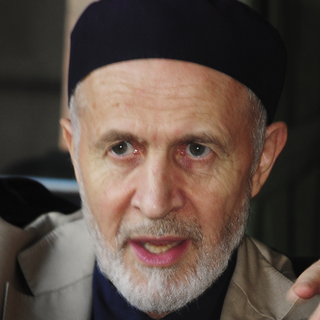eye: (174, 138, 220, 164), (100, 135, 144, 162)
